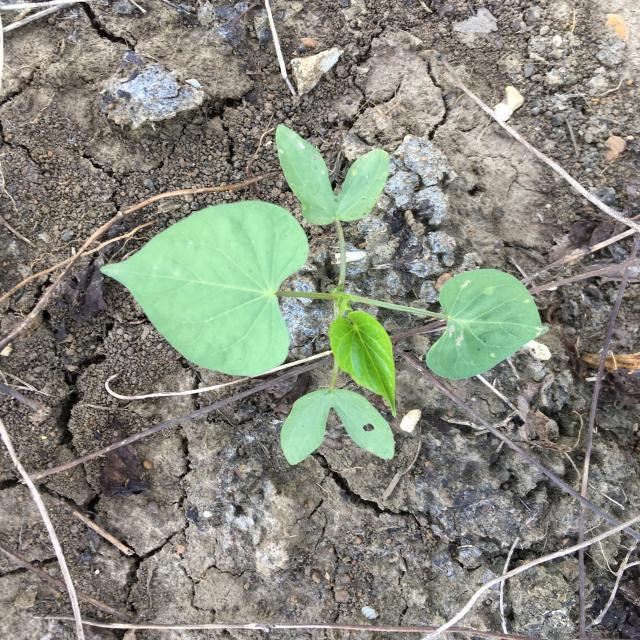MorningGlory: (99, 124, 550, 466)
